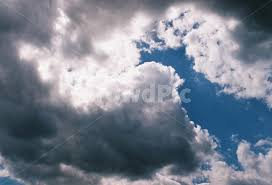sky: (1, 1, 271, 185)
